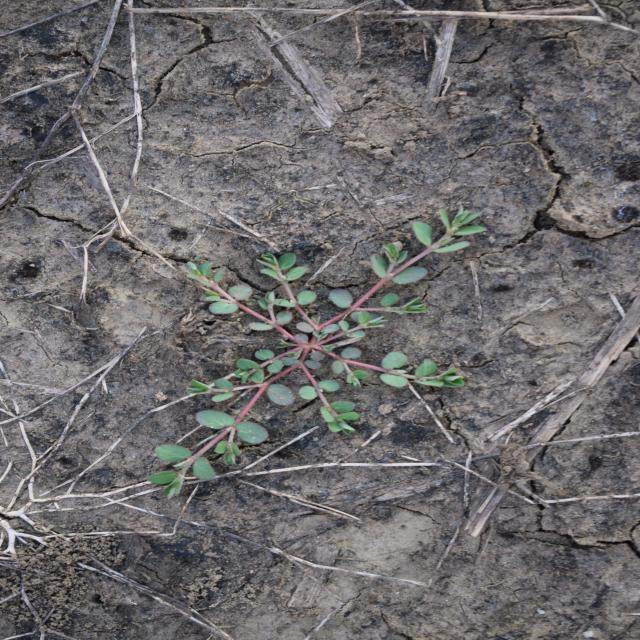SpottedSpurge: (144, 203, 491, 502)
